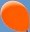Balloon: (1, 1, 30, 32)
